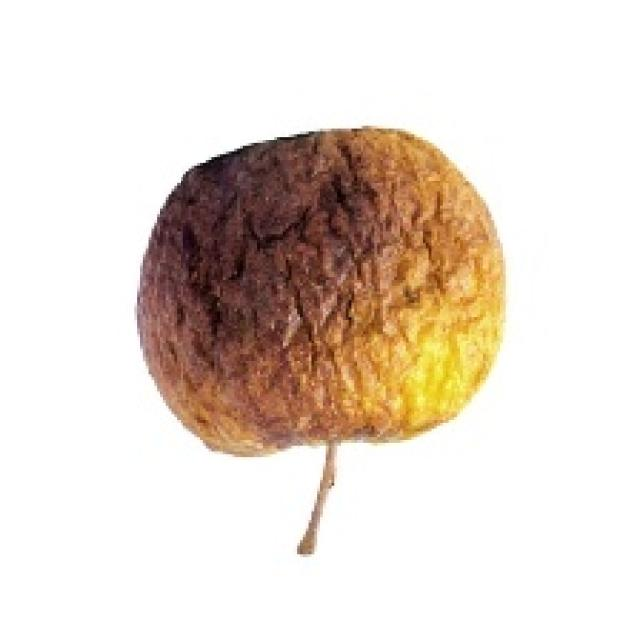rotten_apple: (140, 138, 501, 445)
